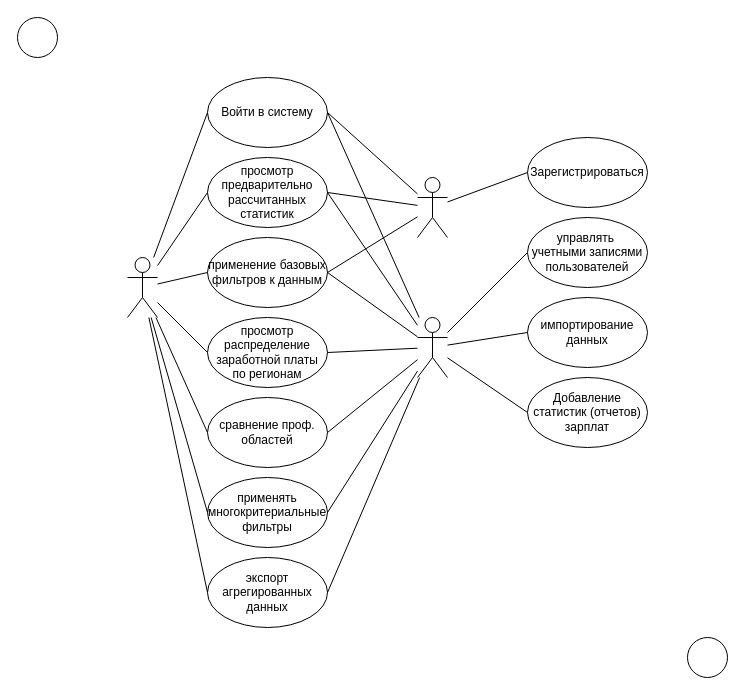
The diagram is 745 pixels wide and 695 high, and some of its shapes have lost their labels. Each missing label, with the centre of its shape:
"Авторизованный пользователь" belongs at (x=142, y=287).
"Администратор" belongs at (x=432, y=347).
"Гость" belongs at (x=432, y=207).
